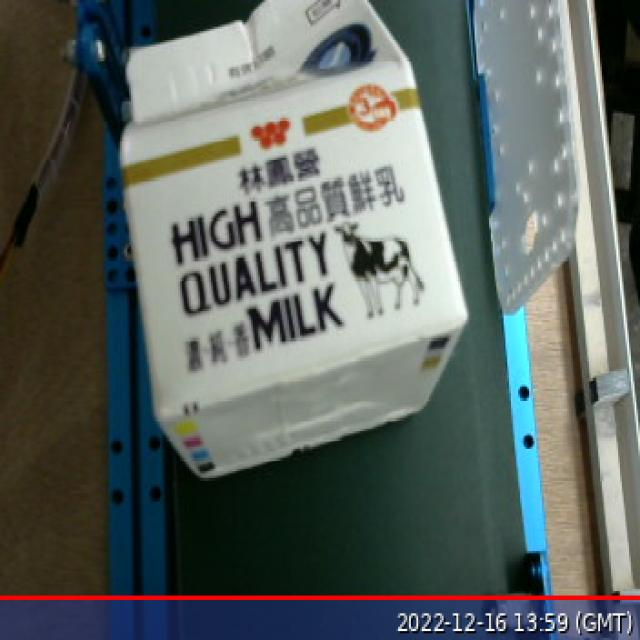non_white_jug: (103, 0, 475, 497)
